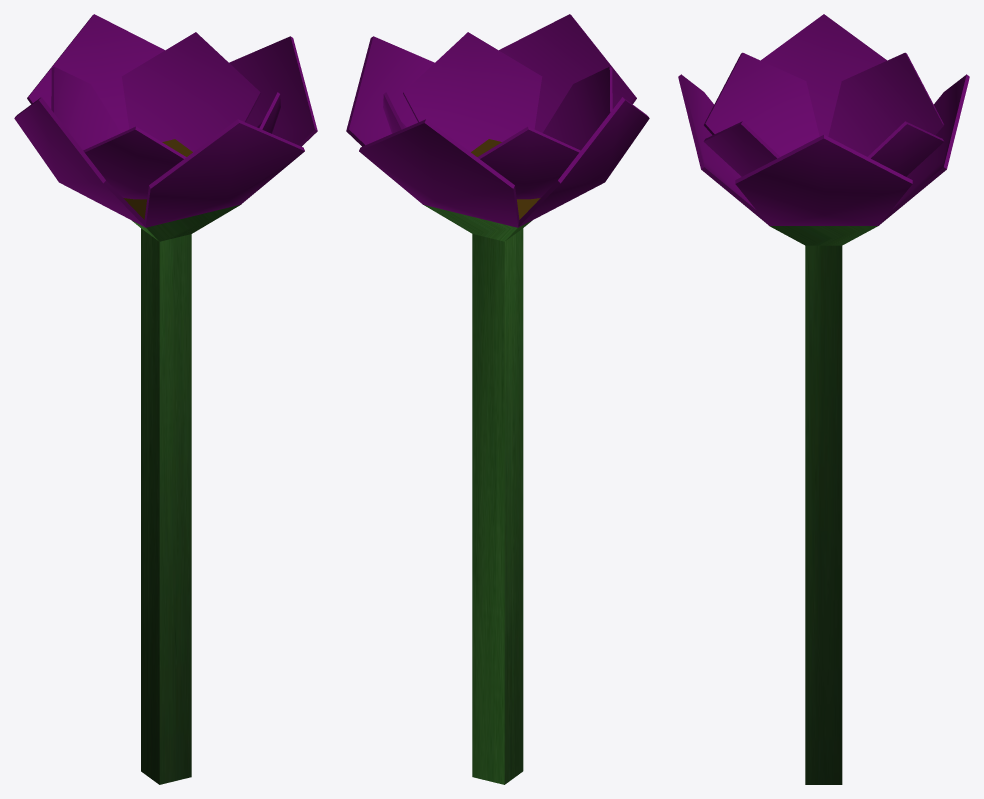
File: Flower_v3.fbx
The picture shows the model from 3 angles, left to right: view 1: azimuth 30°, elevation 25°; view 2: azimuth 150°, elevation 25°; view 3: azimuth 270°, elevation 25°; orthographic projection.
Visible parts, largest first — view 1: Flower_v3; view 2: Flower_v3; view 3: Flower_v3.
Part boxes in pixels (x1,y1,x2,y2): Flower_v3: (14, 14, 317, 784); Flower_v3: (346, 14, 649, 784); Flower_v3: (678, 14, 969, 784).
Bounding box in the file's own units: 0.2951 × 0.7842 × 0.2951.
